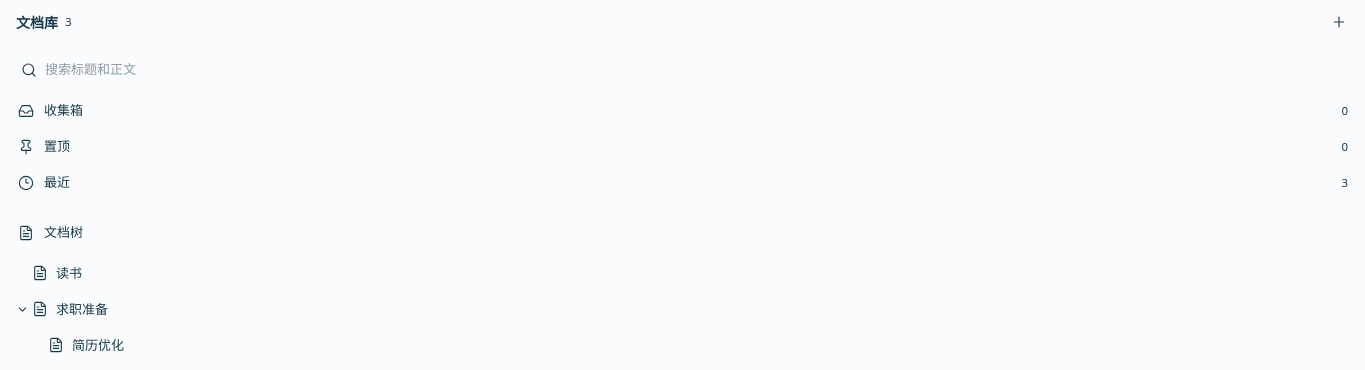
it: NoteExplorer › keeps a matching child and its parent visible while searching
The image size is (1365, 370).
Type "简历" into the search field named "搜索文档" at (695, 70), box [45,60,1345,80]
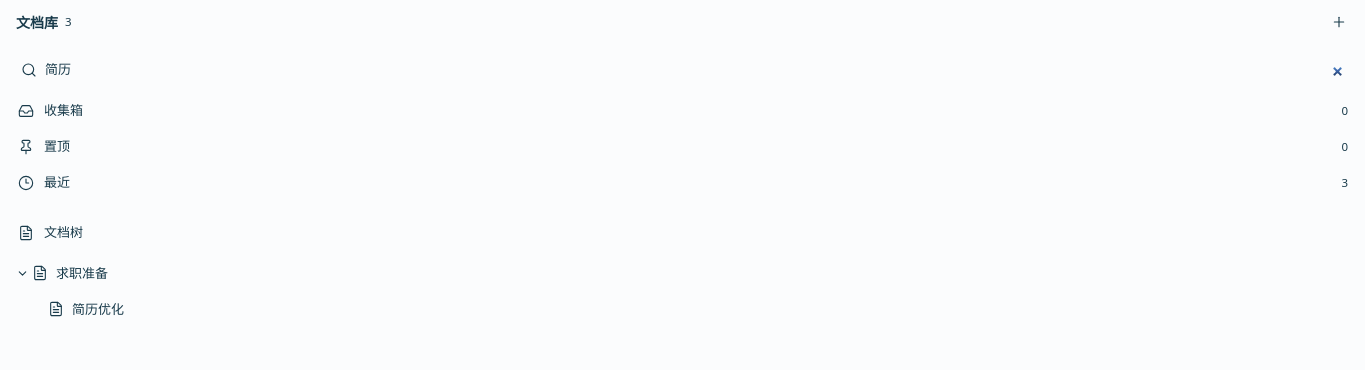
Expected: the text "求职准备" is shown, [56,264,108,282]
Expected: the button "读书" is gone
